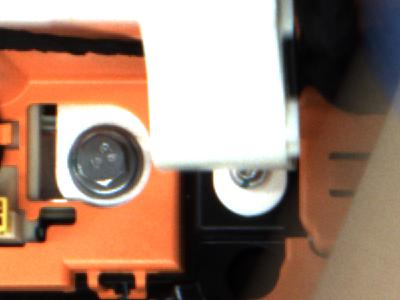nut_b: (63, 124, 144, 197)
